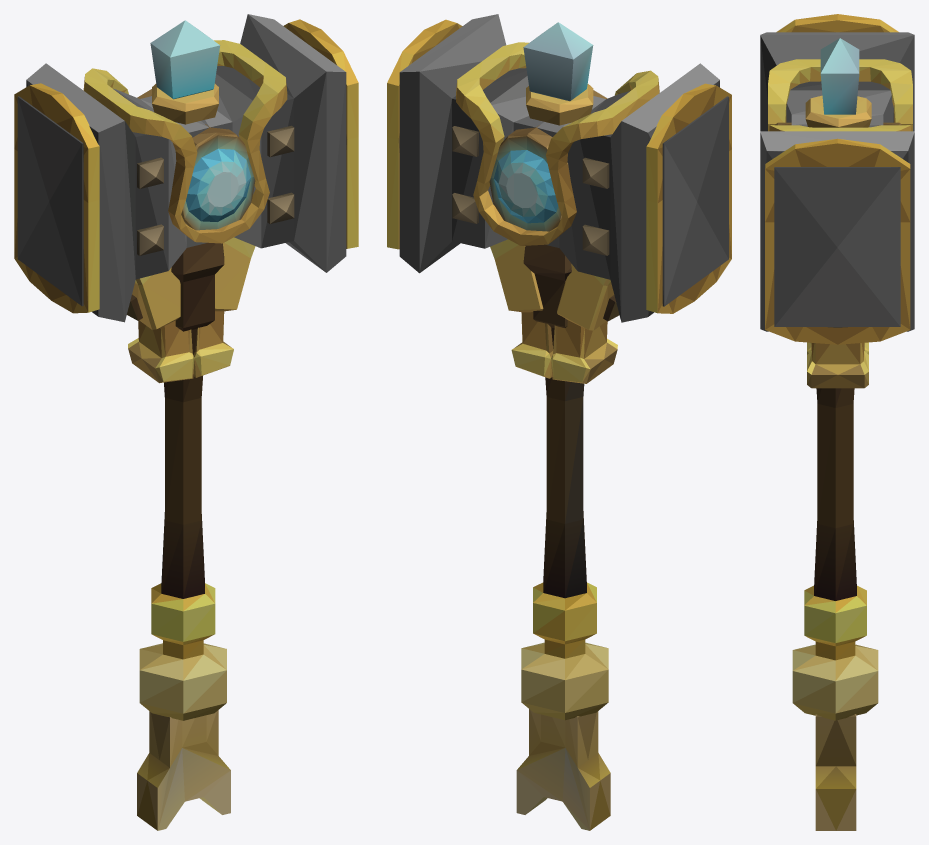
File: weapon_hammer_gold_4.fbx
The picture shows the model from 3 angles, left to right: view 1: azimuth 30°, elevation 25°; view 2: azimuth 150°, elevation 25°; view 3: azimuth 270°, elevation 25°; orthographic projection. The views are drawn at different scales.
Parts seen in each view (by area): view 1: weapon_hammer_gold_4; view 2: weapon_hammer_gold_4; view 3: weapon_hammer_gold_4.
Boxes of the visible parts, x1,y1,x2,y2 form: weapon_hammer_gold_4: (14, 14, 358, 830); weapon_hammer_gold_4: (387, 14, 731, 830); weapon_hammer_gold_4: (760, 14, 914, 830).
Size of the model in its own units: 1.08 by 2.98 by 0.5371.
